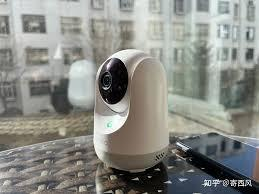maru: (84, 43, 178, 176)
